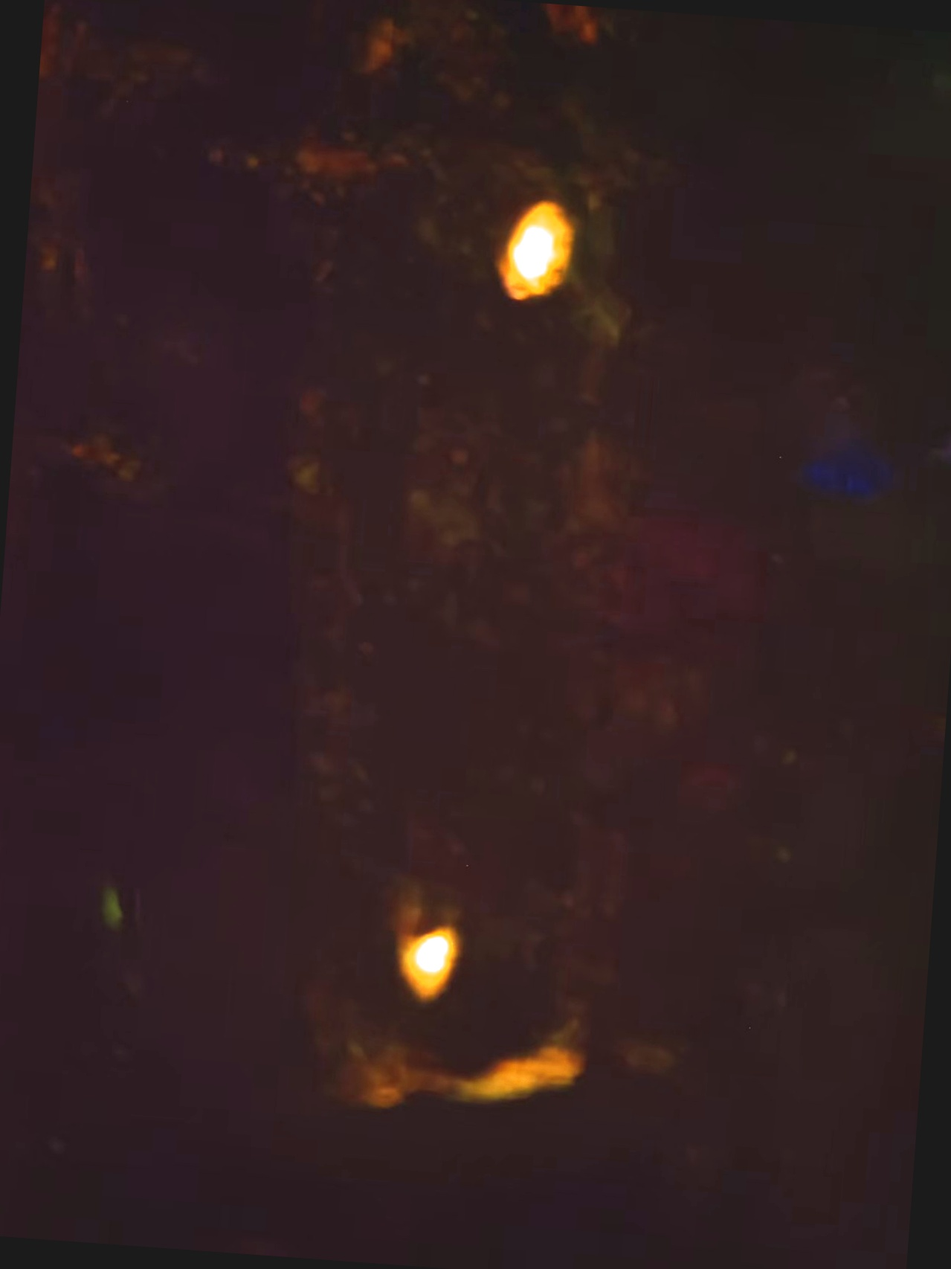Crater: (342, 895, 518, 1021), (465, 171, 604, 326)
